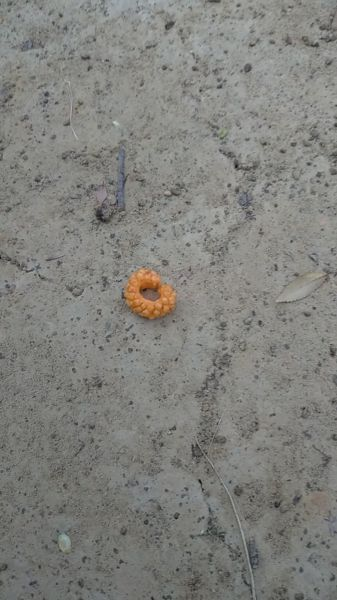eggs: (124, 267, 179, 324)
